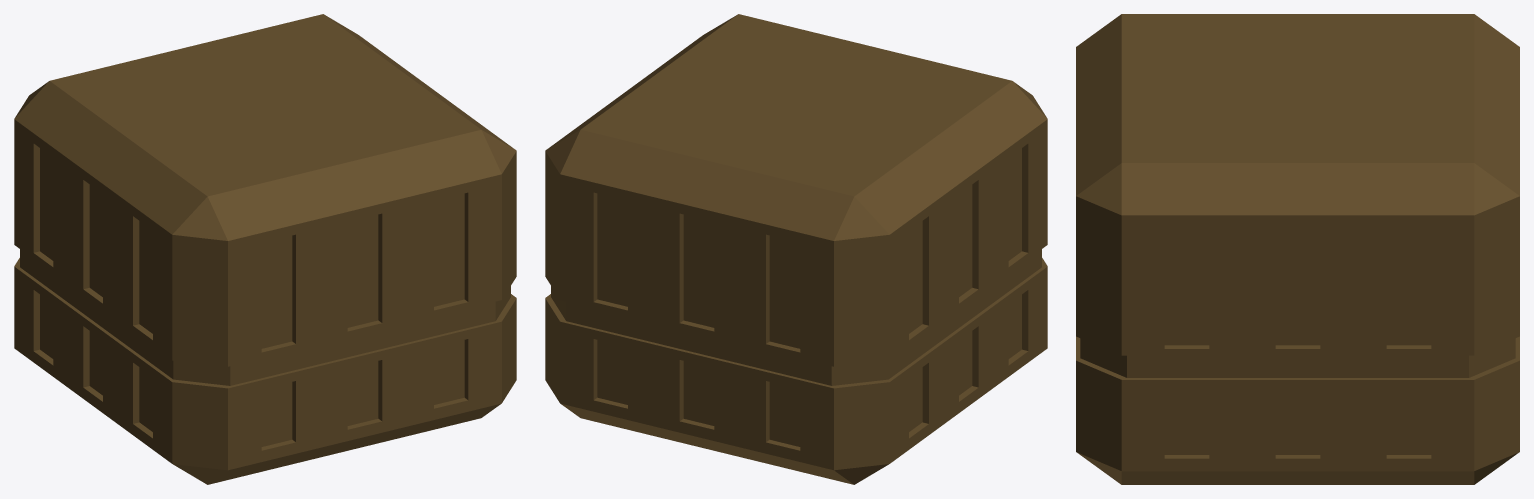
The model's file is dock_box.obj.
3 views of the same model, side by side, from view 1: azimuth 30°, elevation 25°; view 2: azimuth 150°, elevation 25°; view 3: azimuth 270°, elevation 25° (orthographic). The views are drawn at different scales.
Visible parts, largest first — view 1: Cube; view 2: Cube; view 3: Cube.
Part boxes in pixels (x1,y1,x2,y2): Cube: (14, 14, 516, 484); Cube: (545, 14, 1047, 484); Cube: (1076, 14, 1519, 484).
Size of the model in its own units: 1 by 0.8 by 1.
